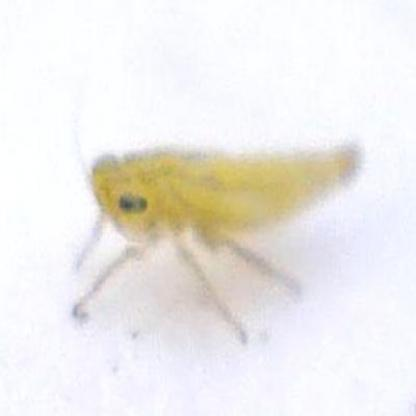green-leafhopper: (83, 143, 360, 262)
